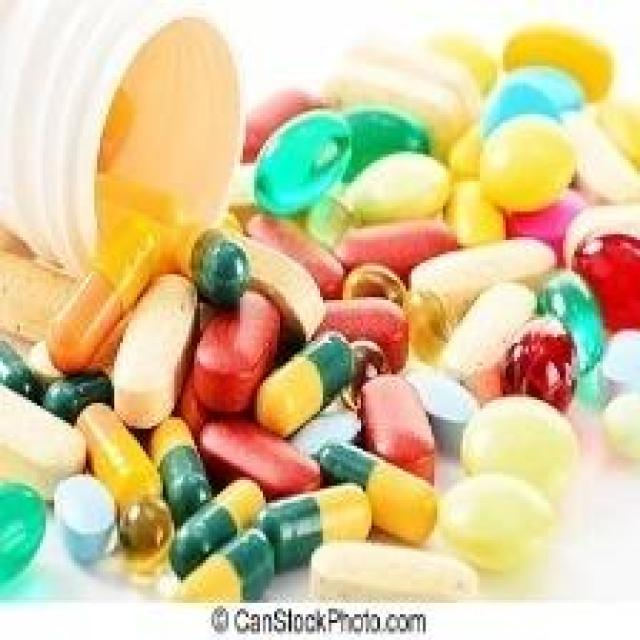Medicine: (0, 0, 629, 603)
